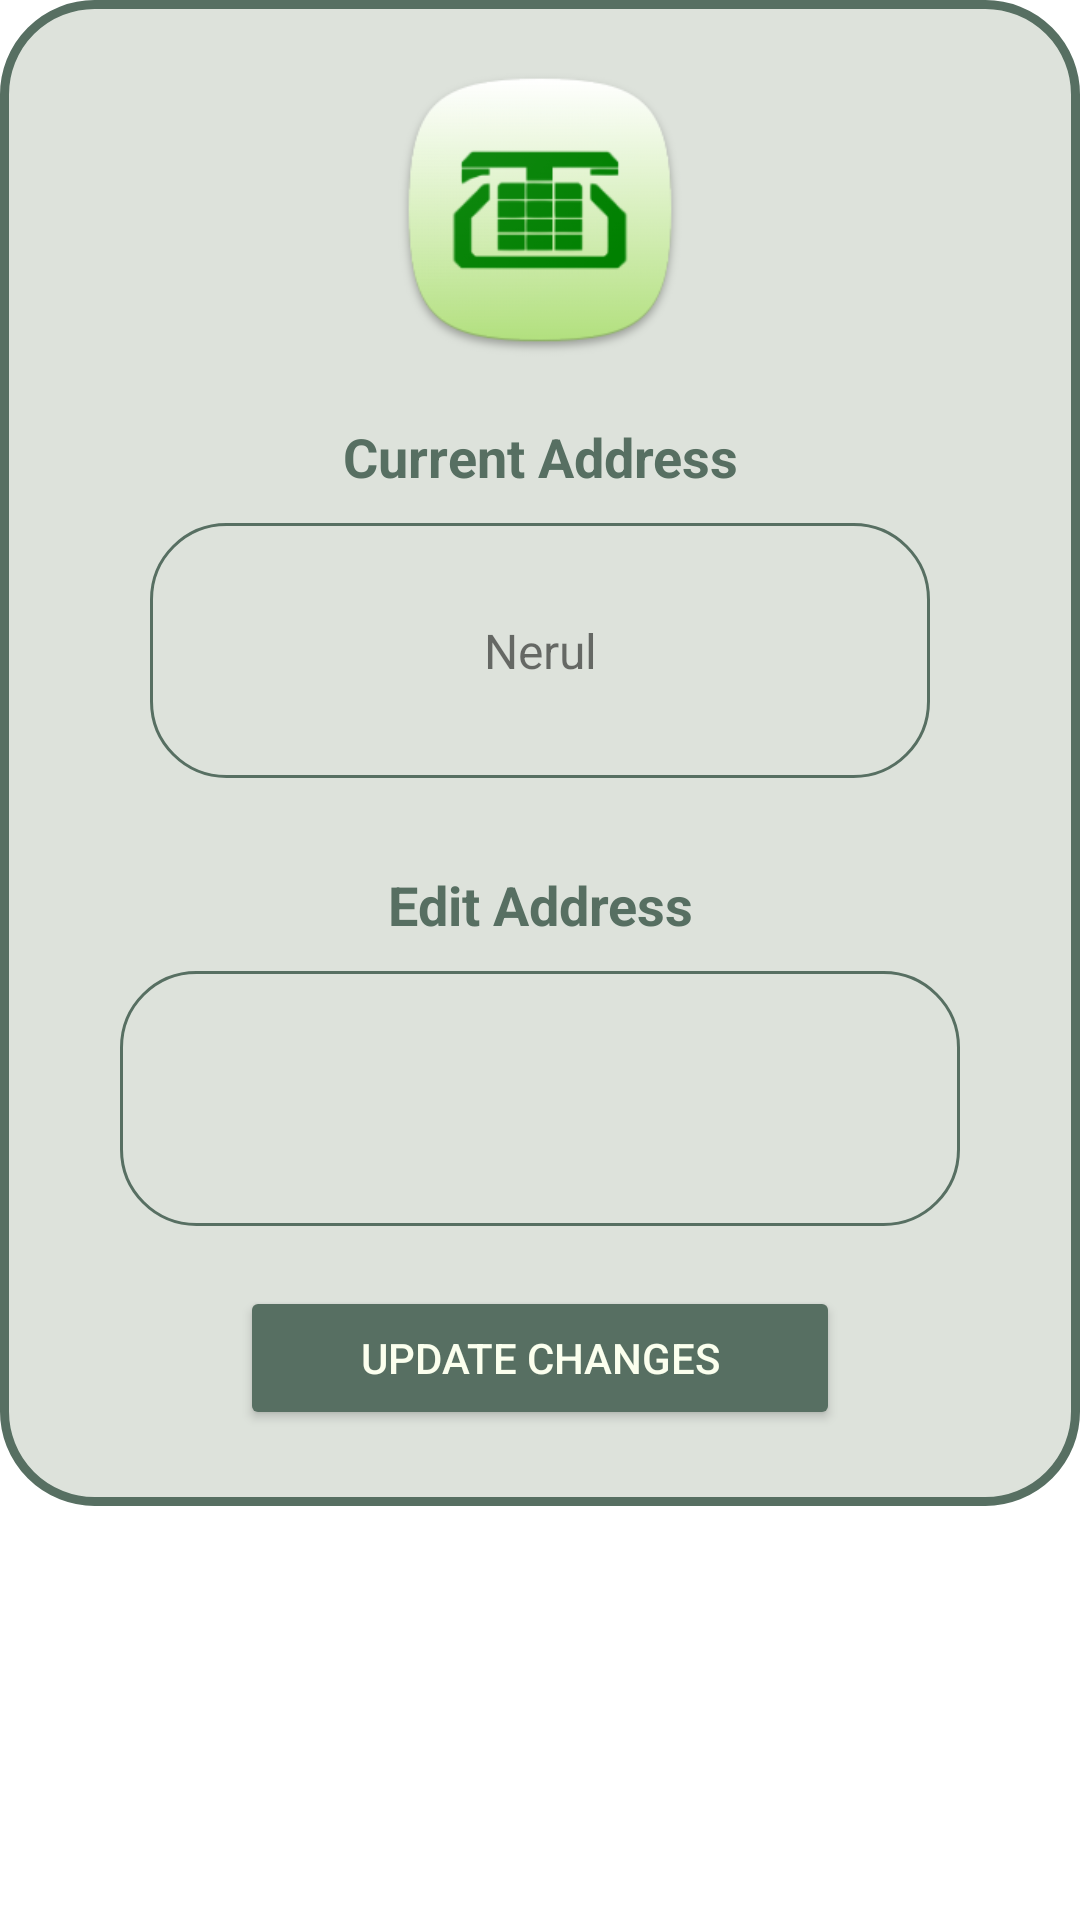

Icon bounding boxes for this 1080w x 1920h phone screenshot, format (x1, y1, x2, y2):
mainicon: (407, 79, 673, 347)
